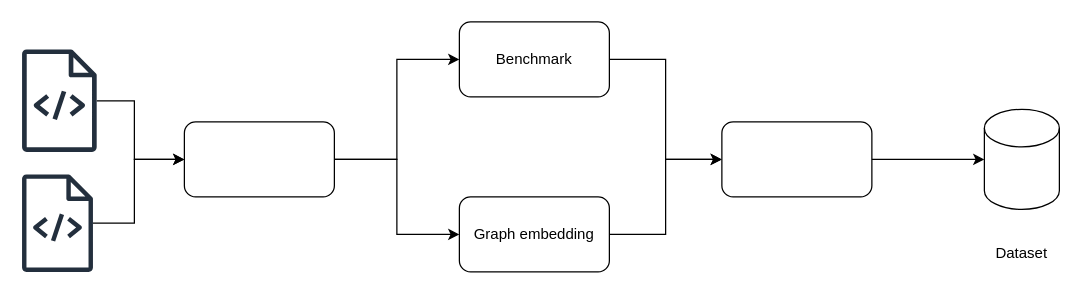
Some shapes in this 1081 by 294 pixel diagram are drawn without their labels. The shapes that lost their labels are listed below. From the top down, each one's box as (x1, y1, x2, y2) in pixels, then its label:
(183, 121, 334, 197): Extract basic blocks
(721, 121, 872, 197): Postprocess
